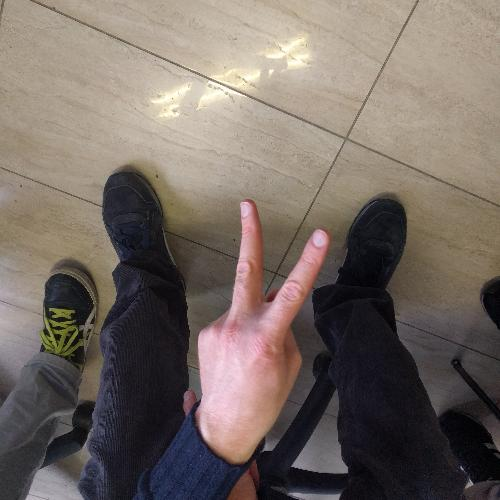scissors: (191, 194, 336, 458)
